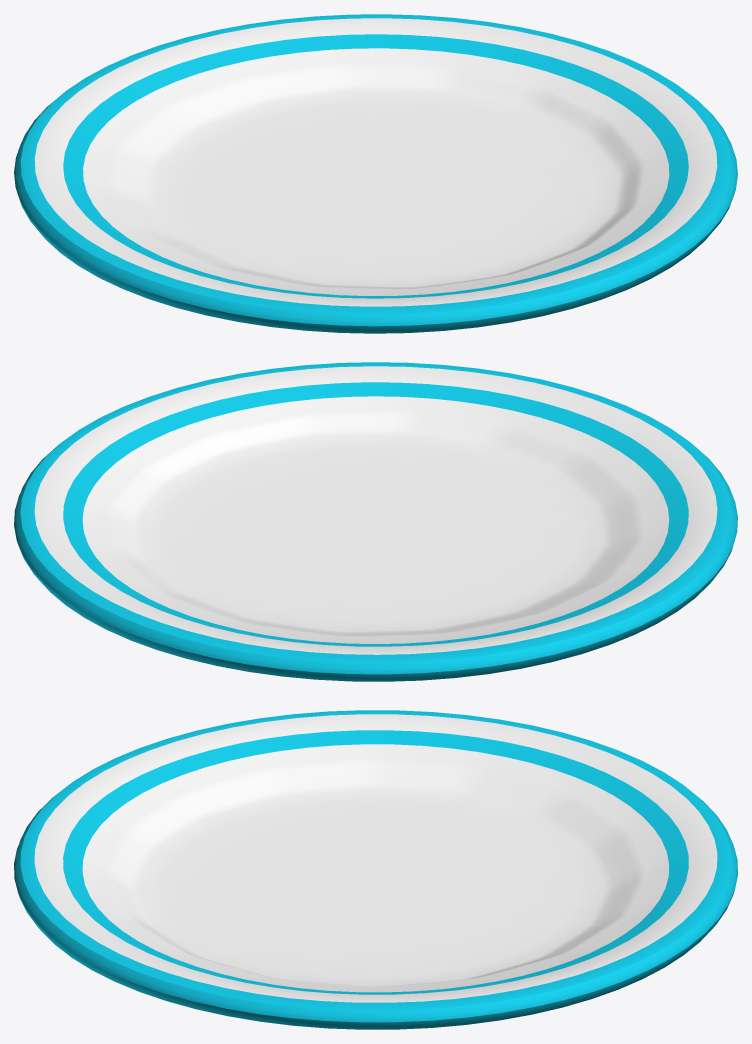
The model's file is BluePlate.fbx.
3 views of the same model, one above another, from view 1: azimuth 30°, elevation 25°; view 2: azimuth 150°, elevation 25°; view 3: azimuth 270°, elevation 25° (orthographic).
Visible parts, largest first — view 1: Plate2; view 2: Plate2; view 3: Plate2.
Boxes of the visible parts, x1,y1,x2,y2 form: Plate2: (14, 14, 737, 333); Plate2: (14, 362, 737, 681); Plate2: (14, 710, 737, 1029).
Bounding box in the file's own units: 24.27 × 2.13 × 24.27.
1 material, 1 textured.
